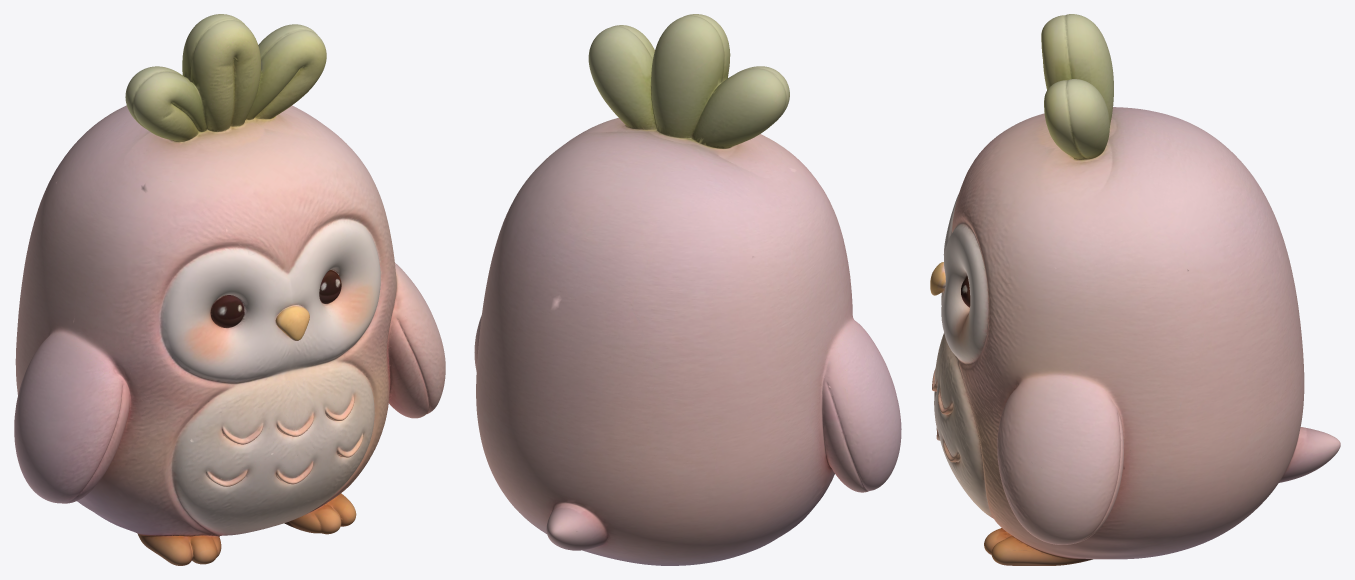
File: carrot.glb
3 renders of one model, left to right at view 1: azimuth 30°, elevation 25°; view 2: azimuth 150°, elevation 25°; view 3: azimuth 270°, elevation 25°, orthographic.
Visible parts, largest first — view 1: Mesh_0; view 2: Mesh_0; view 3: Mesh_0.
Part boxes in pixels (x1,y1,x2,y2): Mesh_0: [14, 14, 445, 565]; Mesh_0: [474, 14, 901, 565]; Mesh_0: [930, 14, 1340, 565].
Size of the model in its own units: 0.8791 by 1.03 by 0.7636.
1 material, 1 textured.
